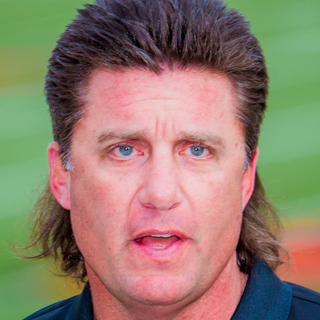eye: (99, 139, 150, 163), (173, 142, 219, 163)
